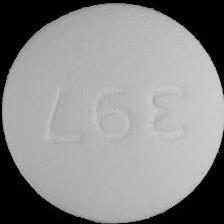51138-074: (0, 0, 224, 224)
